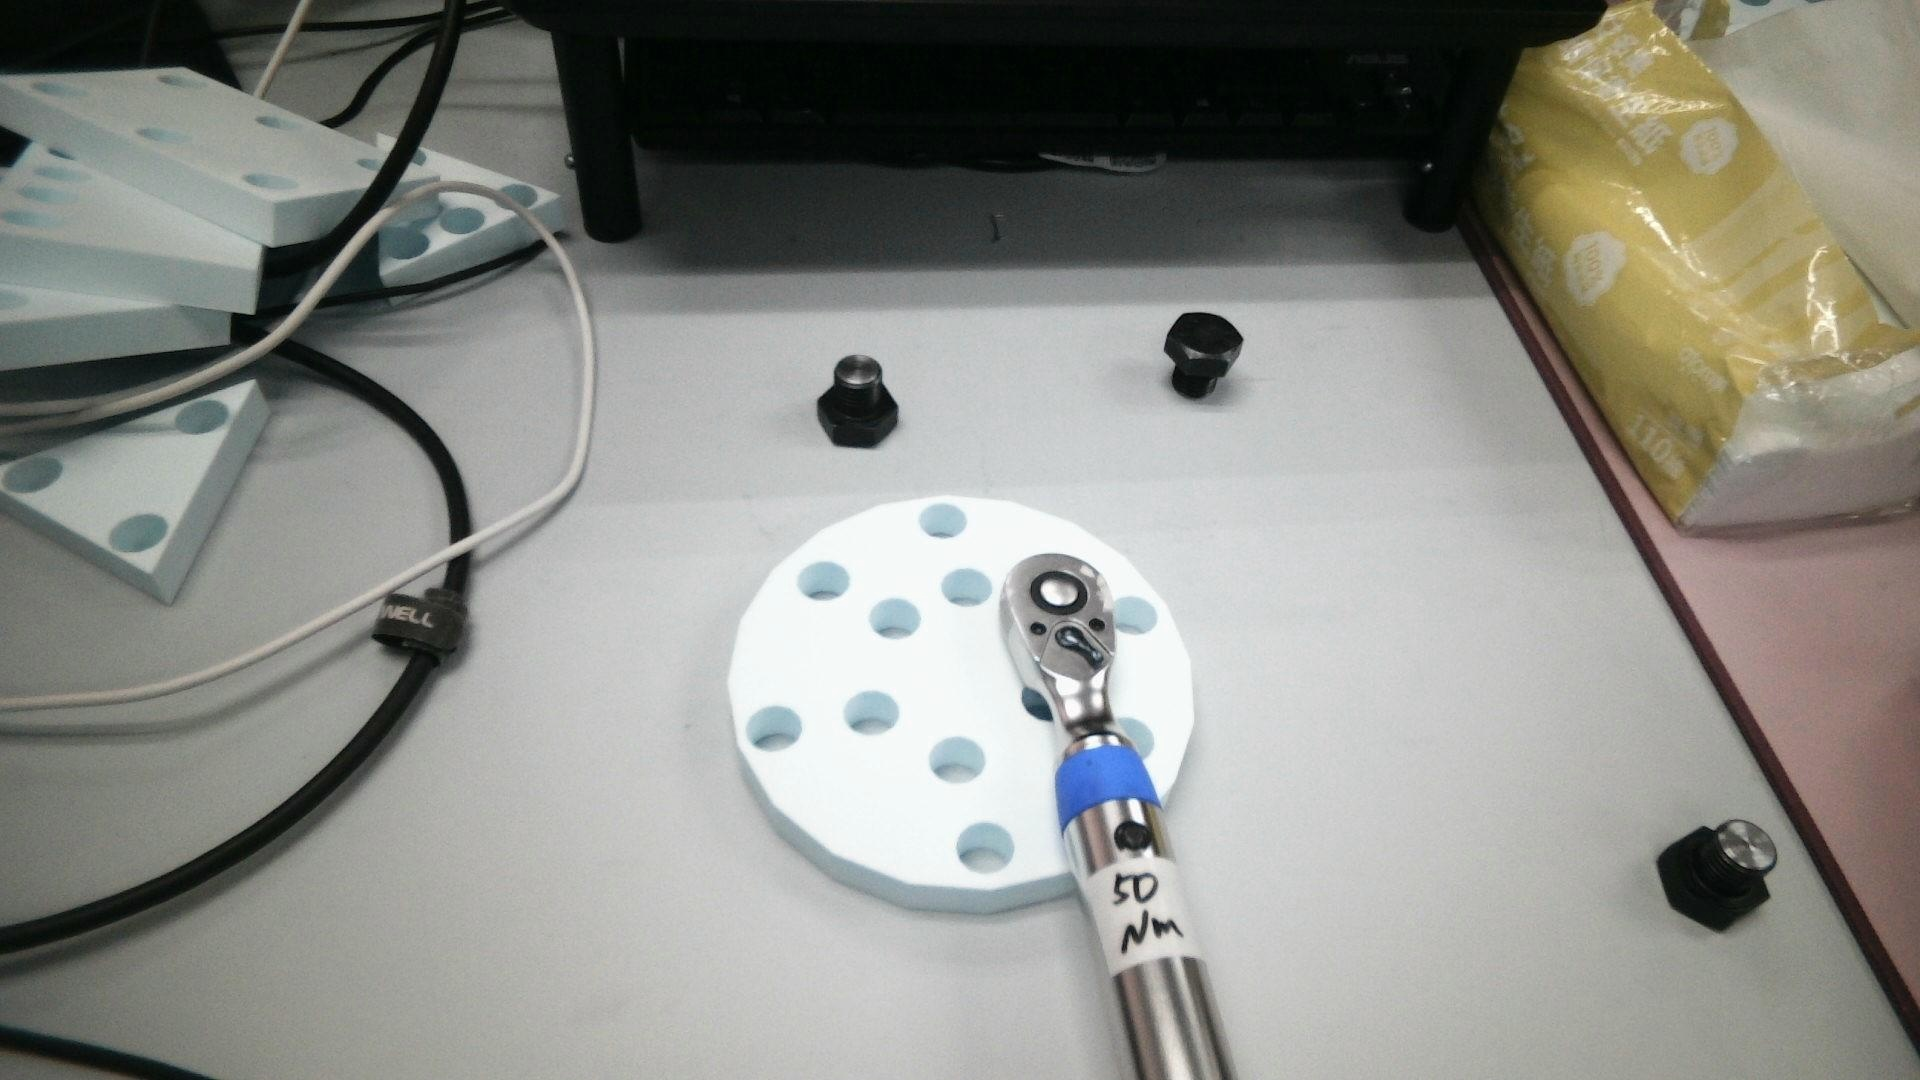hole: (957, 824, 1015, 874), (746, 705, 800, 752), (930, 737, 985, 782), (844, 691, 898, 736), (796, 562, 851, 603), (869, 597, 922, 638), (942, 568, 993, 607), (1113, 716, 1154, 761), (1113, 596, 1159, 636), (919, 502, 968, 539), (1022, 682, 1058, 721)
obj: (728, 495, 1193, 916)
wrench: (1030, 571, 1089, 616)
